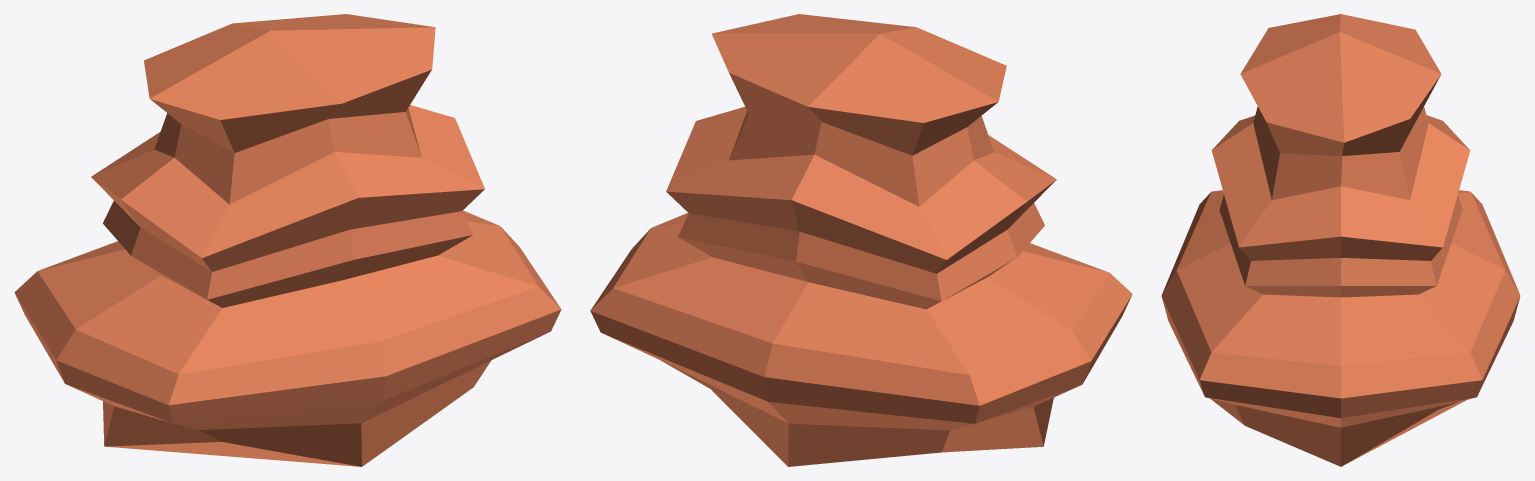
Rendered from stonetower4.fbx.
The picture shows the model from 3 angles, left to right: view 1: azimuth 30°, elevation 25°; view 2: azimuth 150°, elevation 25°; view 3: azimuth 270°, elevation 25°; orthographic projection. The views are drawn at different scales.
Parts seen in each view (by area): view 1: Plane.006; view 2: Plane.006; view 3: Plane.006.
Boxes of the visible parts, x1,y1,x2,y2 form: Plane.006: (14,14,561,466); Plane.006: (590,14,1132,466); Plane.006: (1161,14,1520,466).
Bounding box in the file's own units: 569 × 455 × 416.
